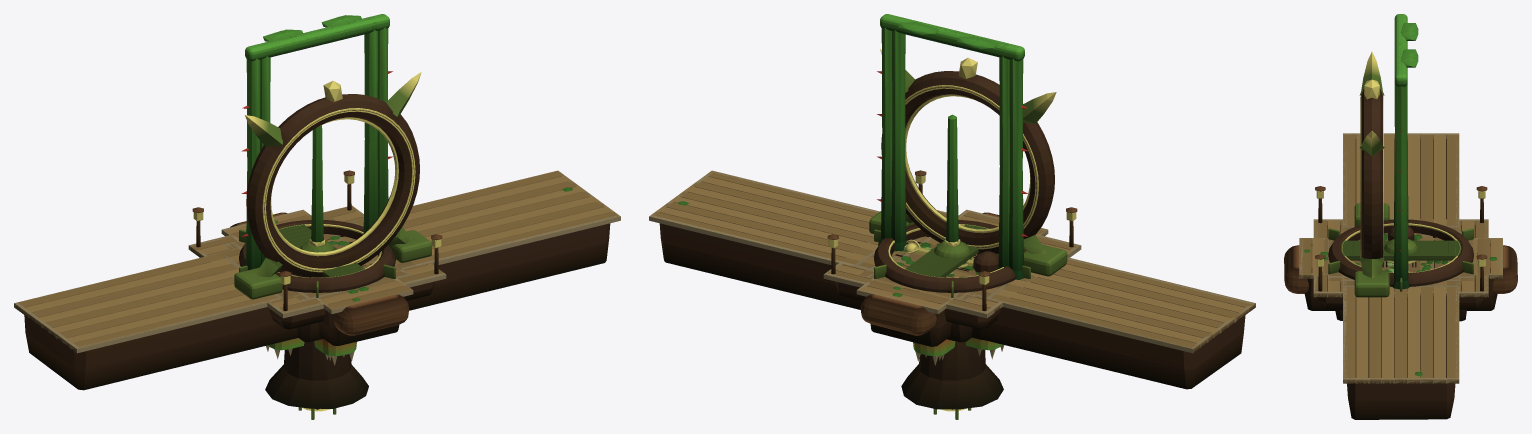
File: swamp-1-DUVrFAXB.glb
3 renders of one model, left to right at view 1: azimuth 30°, elevation 25°; view 2: azimuth 150°, elevation 25°; view 3: azimuth 270°, elevation 25°, orthographic. The views are drawn at different scales.
Parts seen in each view (by area): view 1: block_40x2x8#0, portal_#0, pad_12x2x12#0, pressFrame_7.5x6x2.5x7#0, pressFrame_6x6x2x7#0, geyserVent_8#0, block_6x2x14#0, beam_5x1.5x16_plank#0, press_7.5x6x2.5#0, burner_2x1.2x8#0, block_8x2x10#0, press_2.5x6x7.5#0; view 2: block_40x2x8#0, portal_#0, pad_12x2x12#0, pressFrame_7.5x6x2.5x7#0, pressFrame_6x6x2x7#0, geyserVent_8#0, block_6x2x14#0, beam_5x1.5x16_plank#0, press_7.5x6x2.5#0, burner_2x1.2x8#0, barHub_7.4x1.2#0, block_6x2x10#0; view 3: block_40x2x8#0, portal_#0, pressFrame_7.5x6x2.5x7#0, pad_12x2x12#0, geyserVent_8#0, block_6x2x14#0, beam_5x1.5x16_plank#0, burner_2x1.2x8#0, block_6x2x10#0, pressFrame_6x6x2x7#0, block_10x2x8#0, barHub_7.4x1.2#0 (+1 smaller).
Part boxes in pixels (<box>): block_40x2x8#0: <box>14,170,620,390</box>; portal_#0: <box>234,72,431,299</box>; pad_12x2x12#0: <box>188,170,446,408</box>; pressFrame_7.5x6x2.5x7#0: <box>241,14,392,270</box>; pressFrame_6x6x2x7#0: <box>260,16,378,264</box>; geyserVent_8#0: <box>239,220,395,297</box>; block_6x2x14#0: <box>221,209,413,345</box>; beam_5x1.5x16_plank#0: <box>230,212,408,335</box>; press_7.5x6x2.5#0: <box>266,125,323,359</box>; burner_2x1.2x8#0: <box>278,224,364,277</box>; block_8x2x10#0: <box>224,218,410,342</box>; press_2.5x6x7.5#0: <box>314,339,356,365</box>; block_40x2x8#0: <box>649,170,1255,389</box>; portal_#0: <box>869,49,1067,276</box>; pad_12x2x12#0: <box>823,170,1081,409</box>; pressFrame_7.5x6x2.5x7#0: <box>877,14,1028,279</box>; pressFrame_6x6x2x7#0: <box>891,17,1009,269</box>; geyserVent_8#0: <box>874,220,1030,297</box>; block_6x2x14#0: <box>856,209,1048,346</box>; beam_5x1.5x16_plank#0: <box>860,212,999,335</box>; press_7.5x6x2.5#0: <box>923,114,1004,359</box>; burner_2x1.2x8#0: <box>905,224,990,277</box>; barHub_7.4x1.2#0: <box>904,239,973,268</box>; block_6x2x10#0: <box>873,237,978,298</box>; block_40x2x8#0: <box>1343,133,1459,419</box>; portal_#0: <box>1354,52,1389,297</box>; pressFrame_7.5x6x2.5x7#0: <box>1392,14,1418,289</box>; pad_12x2x12#0: <box>1313,186,1488,309</box>; geyserVent_8#0: <box>1328,219,1473,291</box>; block_6x2x14#0: <box>1299,238,1502,310</box>; beam_5x1.5x16_plank#0: <box>1284,245,1517,293</box>; burner_2x1.2x8#0: <box>1340,240,1461,260</box>; block_6x2x10#0: <box>1328,238,1473,274</box>; pressFrame_6x6x2x7#0: <box>1394,29,1418,258</box>; block_10x2x8#0: <box>1343,225,1459,290</box>; barHub_7.4x1.2#0: <box>1384,239,1418,263</box>.
Size of the model in its own units: 40 by 26.85 by 16.06.
